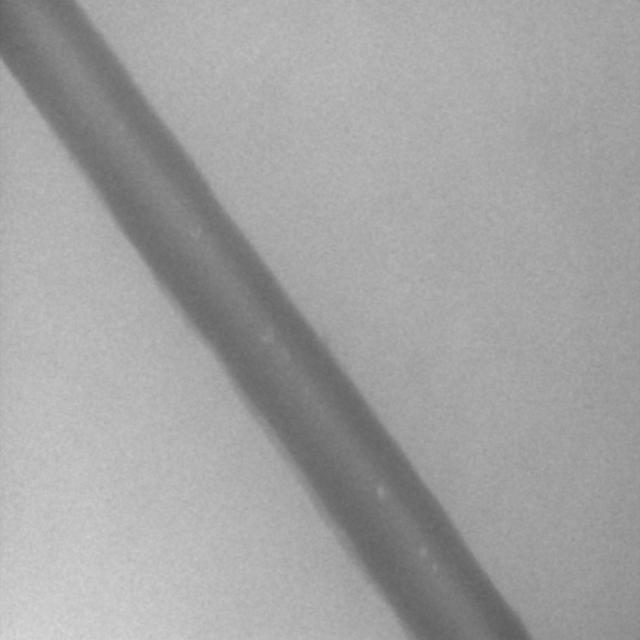air hole: (374, 483, 387, 499)
